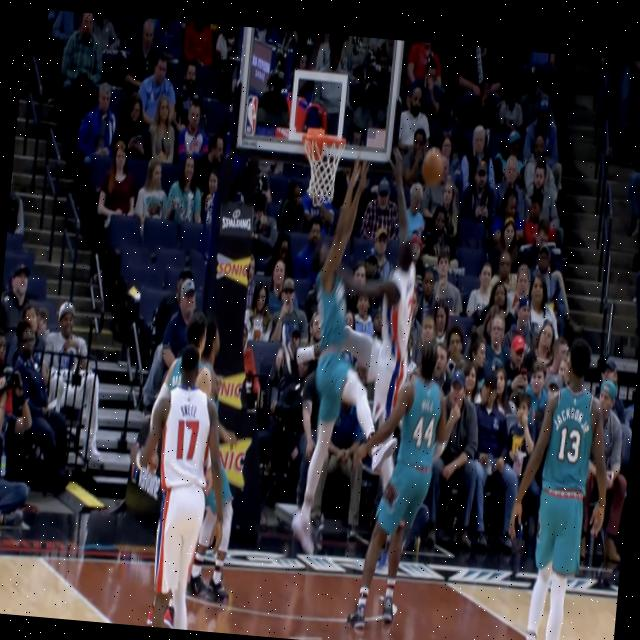foul: (292, 141, 429, 558)
no foul: (122, 307, 227, 631), (353, 333, 455, 640), (182, 344, 248, 604)
